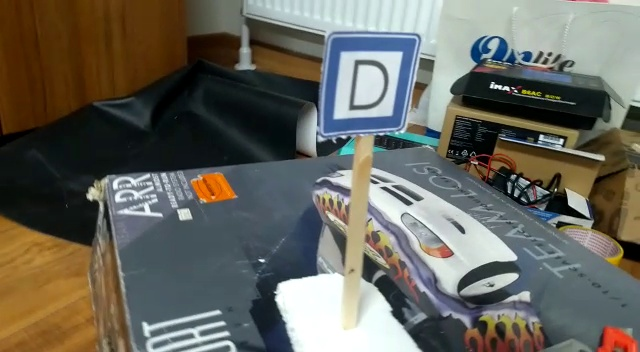durak: (322, 31, 405, 134)
